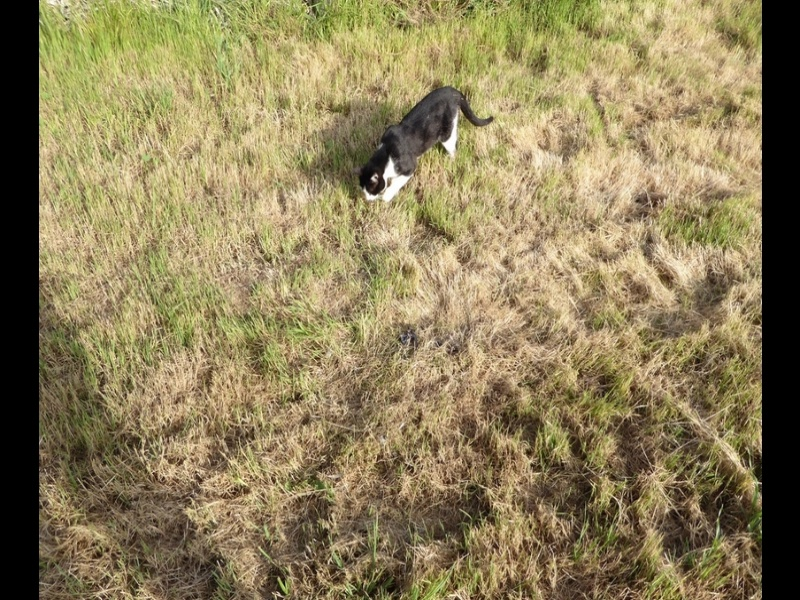cat: (359, 82, 496, 206)
